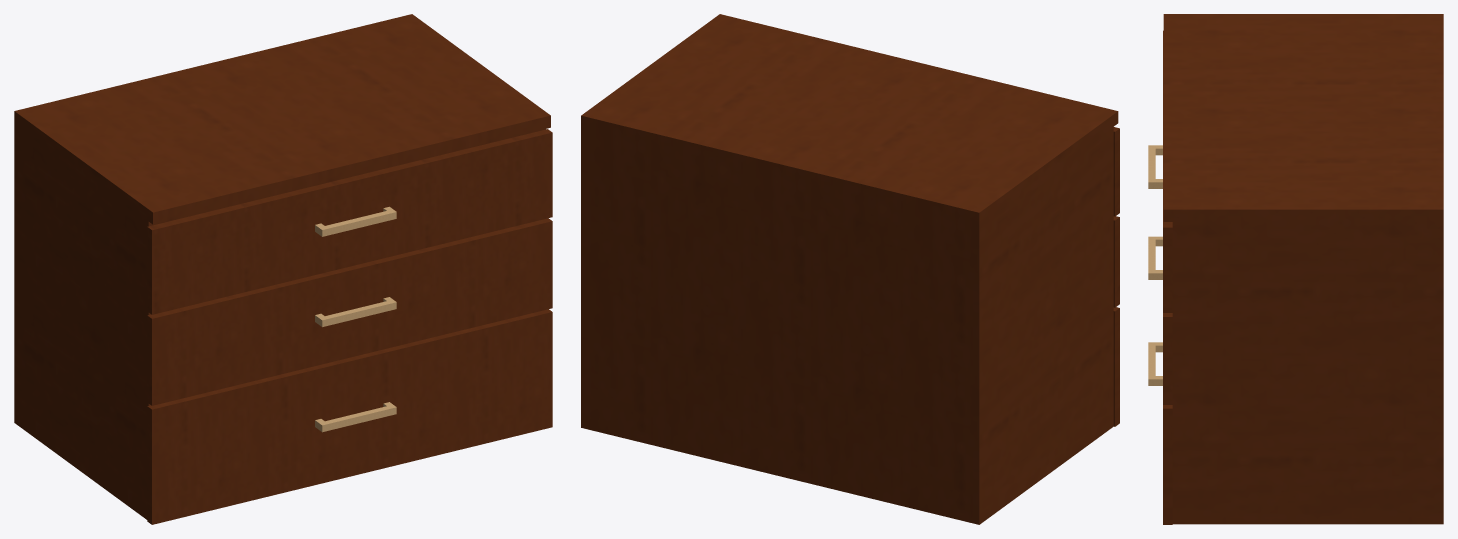
Rendered from Drawer03.fbx.
The picture shows the model from 3 angles, left to right: view 1: azimuth 30°, elevation 25°; view 2: azimuth 150°, elevation 25°; view 3: azimuth 270°, elevation 25°; orthographic projection.
Parts seen in each view (by area): view 1: Drawer_Body03, Drawer03_3, Drawer03_2, Drawer03_1; view 2: Drawer_Body03, Drawer03_3, Drawer03_2, Drawer03_1; view 3: Drawer_Body03, Drawer03_3, Drawer03_1, Drawer03_2.
Part boxes in pixels (x1,y1,x2,y2): Drawer_Body03: (14,14,550,519); Drawer03_3: (147,309,552,524); Drawer03_2: (147,218,552,405); Drawer03_1: (147,129,552,314); Drawer_Body03: (581,14,1118,524); Drawer03_3: (1113,307,1119,426); Drawer03_2: (1113,216,1119,307); Drawer03_1: (1113,127,1119,216); Drawer_Body03: (1163,14,1443,524); Drawer03_3: (1148,342,1172,524); Drawer03_1: (1148,30,1172,312); Drawer03_2: (1148,236,1172,404).
Size of the model in its own units: 79.41 by 59.07 by 50.22.
